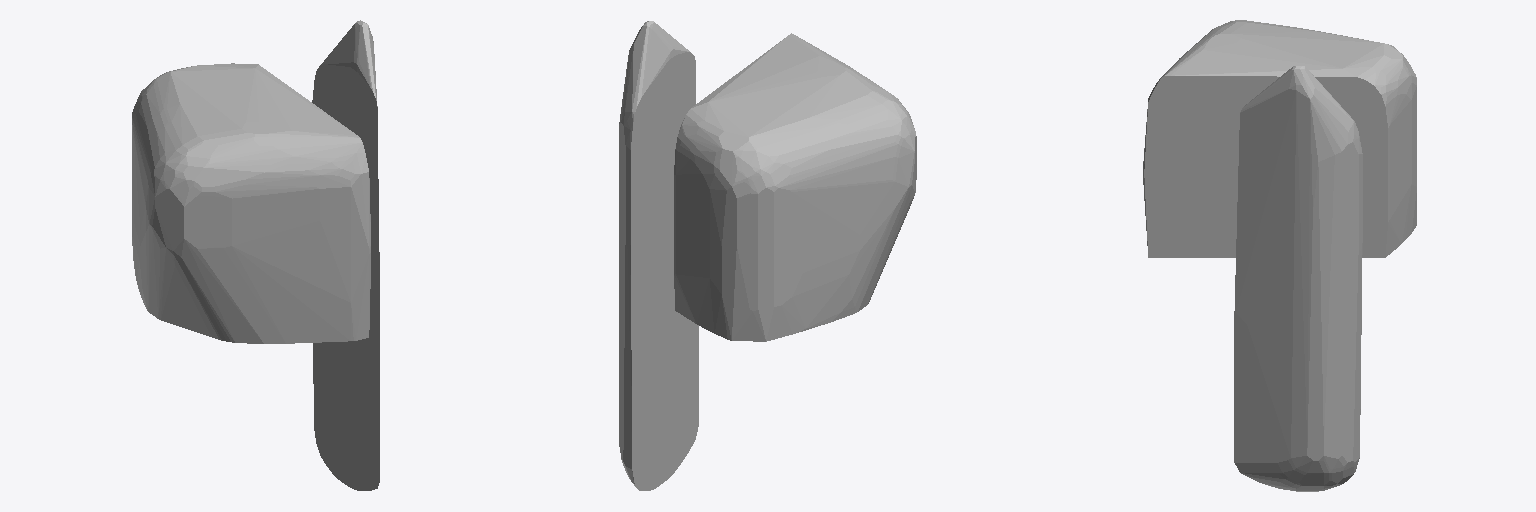
URDF robot description (root):
<robot name="root">
  <link name="link_coacd_convex_piece_0">
    <inertial>
      <origin xyz="0 0 0" rpy="0 0 0"/>
      <inertia ixx="1.74E-02" ixy="3.91E-03" ixz="1.07E-04" iyy="1.48E-02" iyz="-2.86E-04" izz="8.76E-03"/>
    </inertial>
    <visual>
      <origin xyz="0 0 0" rpy="0 0 0"/>
      <geometry>
        <mesh filename="coacd_convex_piece_0.obj" scale="1.0000E+00 1.0000E+00 1.0000E+00"/>
      </geometry>
      <material name="">
        <color rgba="7.50E-01 7.50E-01 7.50E-01 1"/>
      </material>
    </visual>
    <collision>
      <origin xyz="0 0 0" rpy="0 0 0"/>
      <geometry>
        <mesh filename="coacd_convex_piece_0.obj" scale="1.0000E+00 1.0000E+00 1.0000E+00"/>
      </geometry>
    </collision>
  </link>
  <link name="link_coacd_convex_piece_1">
    <inertial>
      <origin xyz="0 0 0" rpy="0 0 0"/>
      <inertia ixx="4.96E-02" ixy="7.09E-04" ixz="8.56E-03" iyy="4.44E-02" iyz="-7.37E-04" izz="2.27E-02"/>
    </inertial>
    <visual>
      <origin xyz="0 0 0" rpy="0 0 0"/>
      <geometry>
        <mesh filename="coacd_convex_piece_1.obj" scale="1.0000E+00 1.0000E+00 1.0000E+00"/>
      </geometry>
      <material name="">
        <color rgba="7.50E-01 7.50E-01 7.50E-01 1"/>
      </material>
    </visual>
    <collision>
      <origin xyz="0 0 0" rpy="0 0 0"/>
      <geometry>
        <mesh filename="coacd_convex_piece_1.obj" scale="1.0000E+00 1.0000E+00 1.0000E+00"/>
      </geometry>
    </collision>
  </link>
  <joint name="link_coacd_convex_piece_1_joint" type="fixed">
    <origin xyz="0 0 0" rpy="0 0 0"/>
    <parent link="link_coacd_convex_piece_0"/>
    <child link="link_coacd_convex_piece_1"/>
  </joint>
  <link name="link_coacd_convex_piece_2">
    <inertial>
      <origin xyz="0 0 0" rpy="0 0 0"/>
      <inertia ixx="9.08E-02" ixy="2.37E-04" ixz="-1.47E-02" iyy="8.56E-02" iyz="-2.33E-04" izz="2.73E-02"/>
    </inertial>
    <visual>
      <origin xyz="0 0 0" rpy="0 0 0"/>
      <geometry>
        <mesh filename="coacd_convex_piece_2.obj" scale="1.0000E+00 1.0000E+00 1.0000E+00"/>
      </geometry>
      <material name="">
        <color rgba="7.50E-01 7.50E-01 7.50E-01 1"/>
      </material>
    </visual>
    <collision>
      <origin xyz="0 0 0" rpy="0 0 0"/>
      <geometry>
        <mesh filename="coacd_convex_piece_2.obj" scale="1.0000E+00 1.0000E+00 1.0000E+00"/>
      </geometry>
    </collision>
  </link>
  <joint name="link_coacd_convex_piece_2_joint" type="fixed">
    <origin xyz="0 0 0" rpy="0 0 0"/>
    <parent link="link_coacd_convex_piece_1"/>
    <child link="link_coacd_convex_piece_2"/>
  </joint>
  <link name="link_coacd_convex_piece_3">
    <inertial>
      <origin xyz="0 0 0" rpy="0 0 0"/>
      <inertia ixx="8.44E-03" ixy="-1.63E-03" ixz="4.40E-04" iyy="1.48E-02" iyz="1.08E-04" izz="7.85E-03"/>
    </inertial>
    <visual>
      <origin xyz="0 0 0" rpy="0 0 0"/>
      <geometry>
        <mesh filename="coacd_convex_piece_3.obj" scale="1.0000E+00 1.0000E+00 1.0000E+00"/>
      </geometry>
      <material name="">
        <color rgba="7.50E-01 7.50E-01 7.50E-01 1"/>
      </material>
    </visual>
    <collision>
      <origin xyz="0 0 0" rpy="0 0 0"/>
      <geometry>
        <mesh filename="coacd_convex_piece_3.obj" scale="1.0000E+00 1.0000E+00 1.0000E+00"/>
      </geometry>
    </collision>
  </link>
  <joint name="link_coacd_convex_piece_3_joint" type="fixed">
    <origin xyz="0 0 0" rpy="0 0 0"/>
    <parent link="link_coacd_convex_piece_2"/>
    <child link="link_coacd_convex_piece_3"/>
  </joint>
  <link name="link_coacd_convex_piece_4">
    <inertial>
      <origin xyz="0 0 0" rpy="0 0 0"/>
      <inertia ixx="3.29E-02" ixy="-2.52E-03" ixz="2.93E-03" iyy="3.89E-02" iyz="6.81E-04" izz="1.42E-02"/>
    </inertial>
    <visual>
      <origin xyz="0 0 0" rpy="0 0 0"/>
      <geometry>
        <mesh filename="coacd_convex_piece_4.obj" scale="1.0000E+00 1.0000E+00 1.0000E+00"/>
      </geometry>
      <material name="">
        <color rgba="7.50E-01 7.50E-01 7.50E-01 1"/>
      </material>
    </visual>
    <collision>
      <origin xyz="0 0 0" rpy="0 0 0"/>
      <geometry>
        <mesh filename="coacd_convex_piece_4.obj" scale="1.0000E+00 1.0000E+00 1.0000E+00"/>
      </geometry>
    </collision>
  </link>
  <joint name="link_coacd_convex_piece_4_joint" type="fixed">
    <origin xyz="0 0 0" rpy="0 0 0"/>
    <parent link="link_coacd_convex_piece_3"/>
    <child link="link_coacd_convex_piece_4"/>
  </joint>
</robot>

--- Facts derived from the render (not from the file) ---
The picture shows the robot from 3 angles, left to right: view 1: azimuth 30°, elevation 25°; view 2: azimuth 150°, elevation 25°; view 3: azimuth 270°, elevation 25°; orthographic projection.
Robot: root — 5 links, 4 joints (4 fixed); root link link_coacd_convex_piece_0; default pose: all joints at 0.
Links seen in each view (by area): view 1: link_coacd_convex_piece_1, link_coacd_convex_piece_3; view 2: link_coacd_convex_piece_1, link_coacd_convex_piece_3; view 3: link_coacd_convex_piece_3, link_coacd_convex_piece_1.
Boxes of the visible links, <box> form: link_coacd_convex_piece_1: <box>132,63,370,343</box>; link_coacd_convex_piece_3: <box>312,20,379,490</box>; link_coacd_convex_piece_1: <box>674,33,916,341</box>; link_coacd_convex_piece_3: <box>619,21,698,490</box>; link_coacd_convex_piece_3: <box>1234,66,1362,491</box>; link_coacd_convex_piece_1: <box>1143,20,1416,257</box>.
Size in the robot's own frame: 0.9636 by 0.9636 by 1.68 metres.
Meshes: 5 distinct files referenced, 2 mesh visuals loaded (2 OBJ); not drawn: 3 (reference not matched to a file when rendering).